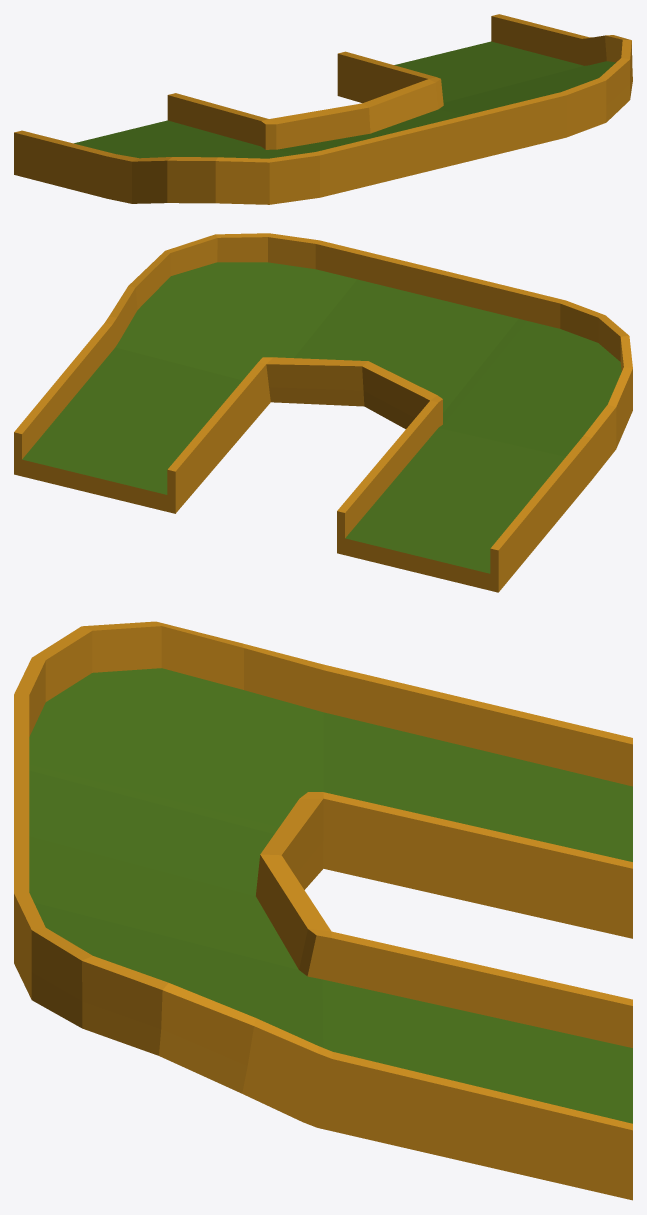
Rendered from 180_Bank_Proto.fbx.
3 views of the same model, one above another, from view 1: azimuth 30°, elevation 25°; view 2: azimuth 150°, elevation 25°; view 3: azimuth 270°, elevation 25° (orthographic). The views are drawn at different scales.
Parts seen in each view (by area): view 1: 180 Corner Bank; view 2: 180 Corner Bank; view 3: 180 Corner Bank.
Boxes of the visible parts, <box> form: 180 Corner Bank: <box>14,14,632,204</box>; 180 Corner Bank: <box>14,233,632,592</box>; 180 Corner Bank: <box>14,621,632,1200</box>.
Bounding box in the file's own units: 300 × 75.44 × 200.
